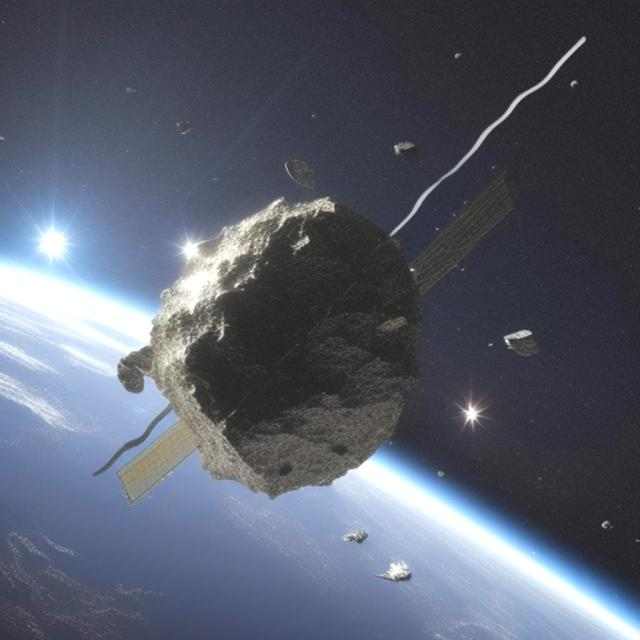large_debris: (492, 301, 542, 370), (444, 398, 499, 433), (384, 542, 412, 600), (382, 117, 411, 172)
medium_debris: (80, 0, 611, 593)
